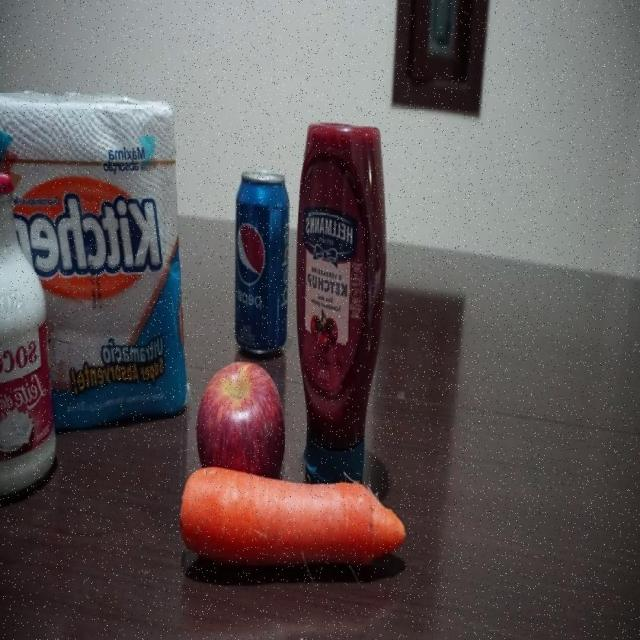Apple: (193, 359, 286, 478)
Carrot: (178, 468, 408, 570)
CoconutMilk: (0, 165, 60, 508)
Ketchup: (295, 119, 391, 495)
Napkin: (0, 89, 188, 442)
SodaCan: (233, 167, 291, 357)
